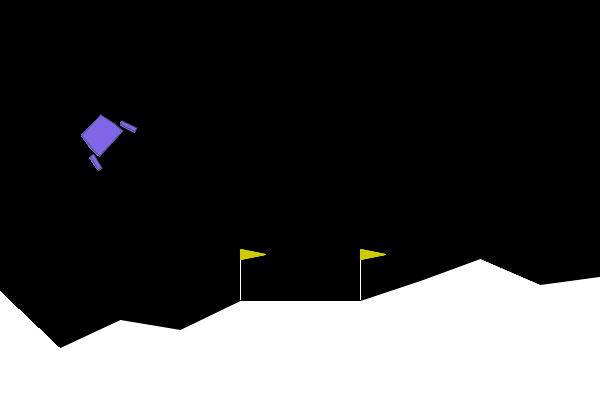lander: (69, 102, 139, 173)
